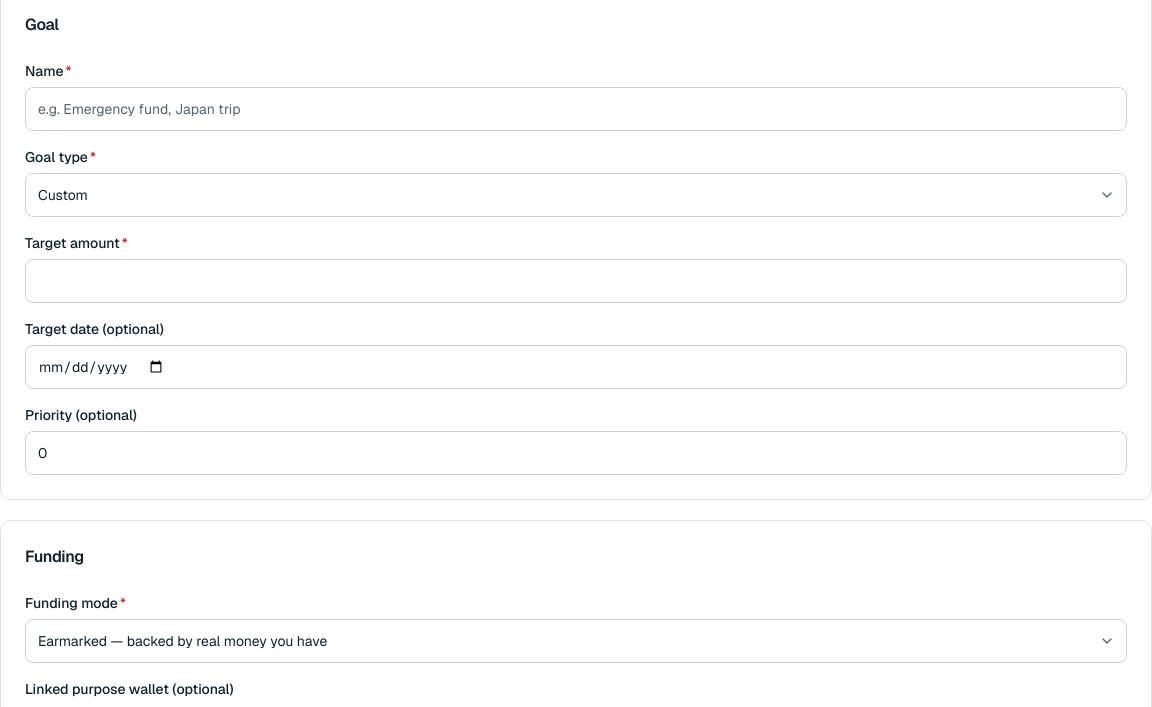
Test: GoalForm › shows the months-of-expenses fields only once that method is selected
The width and height of the screenshot is (1152, 707).
Select "Emergency fund" in the dropdown labelled "Goal type" at (576, 195), box [25,173,1127,217]
(page scrolled)
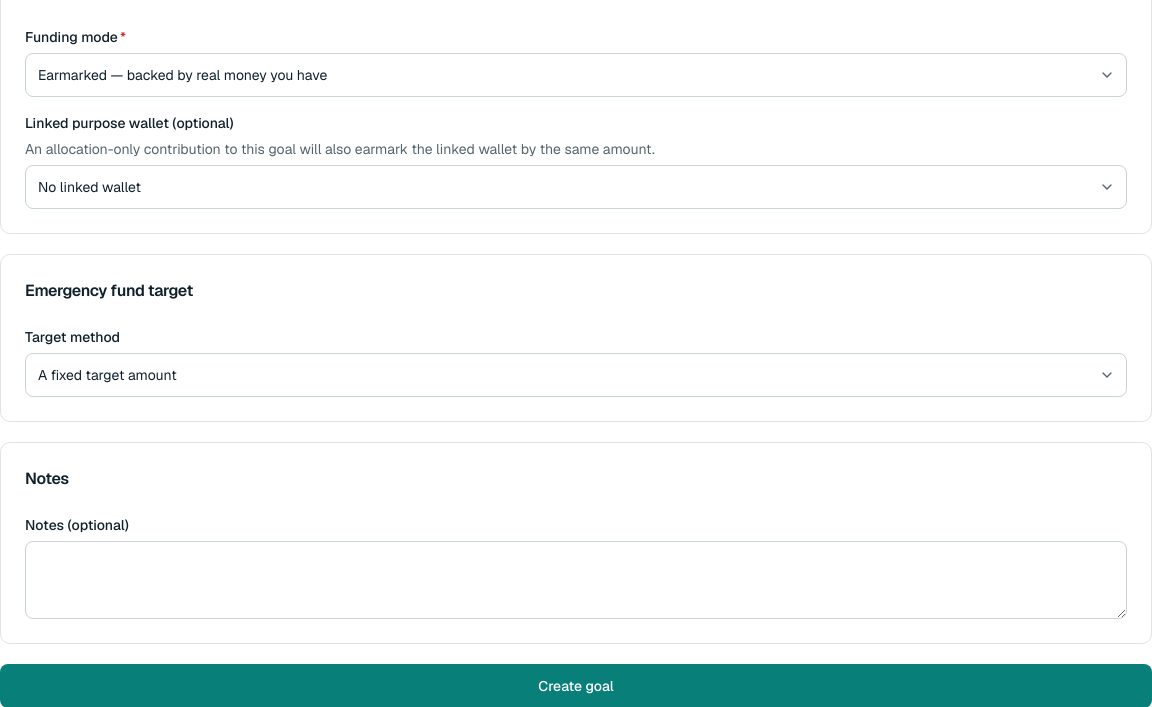
Expected: the field labelled "Months of expenses" is not shown
Select "A number of months of essential expenses" in the dropdown labelled "Target method" at (576, 375), box [25,353,1127,397]
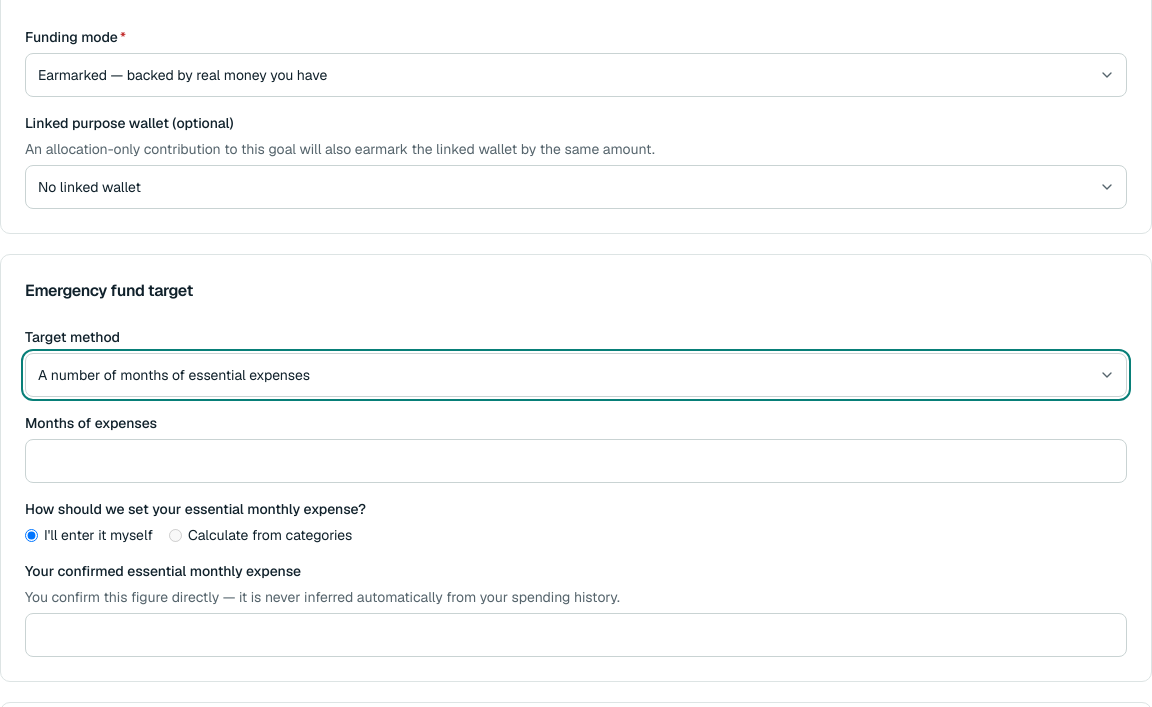
Expected: the field labelled "Months of expenses" is shown, [25,439,1127,483]
Expected: the field labelled "Your confirmed essential monthly expense" is shown, [25,613,1127,657]
